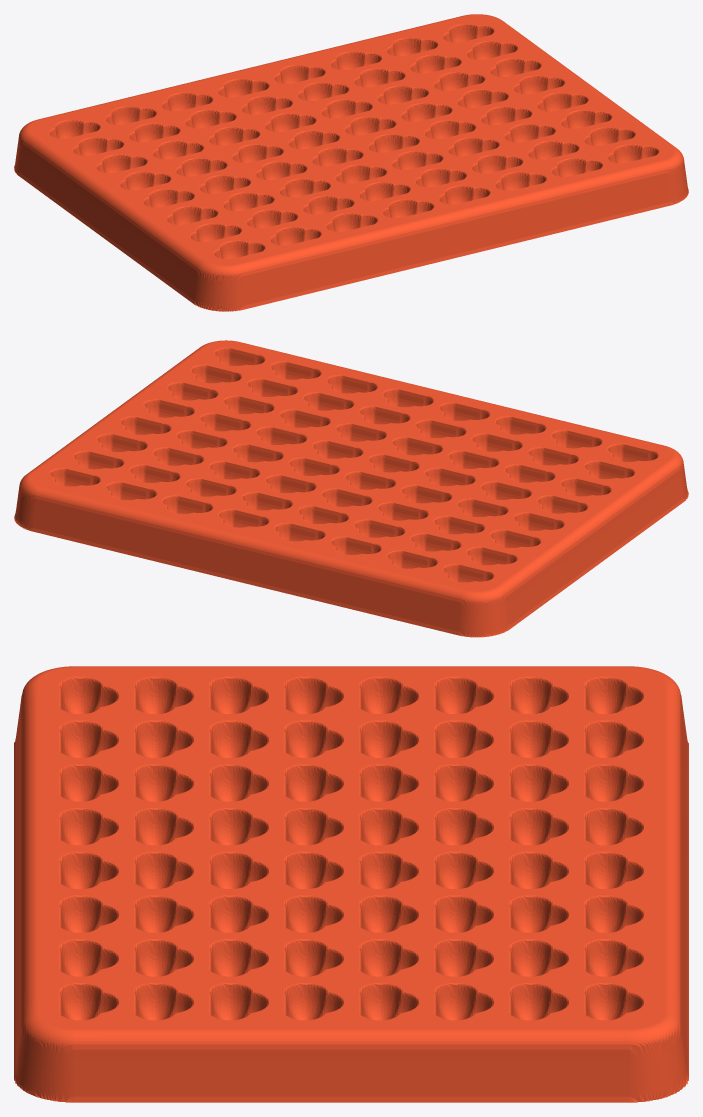
The model's file is mold.glb.
The picture shows the model from 3 angles, top to bottom: view 1: azimuth 30°, elevation 25°; view 2: azimuth 150°, elevation 25°; view 3: azimuth 270°, elevation 25°; orthographic projection. The views are drawn at different scales.
Visible parts, largest first — view 1: geometry_0; view 2: geometry_0; view 3: geometry_0.
Boxes of the visible parts, bbox=[...] form: geometry_0: bbox=[14, 14, 688, 311]; geometry_0: bbox=[14, 340, 688, 637]; geometry_0: bbox=[14, 666, 688, 1102].
Bounding box in the file's own units: 0.1355 × 0.0105 × 0.1013.
